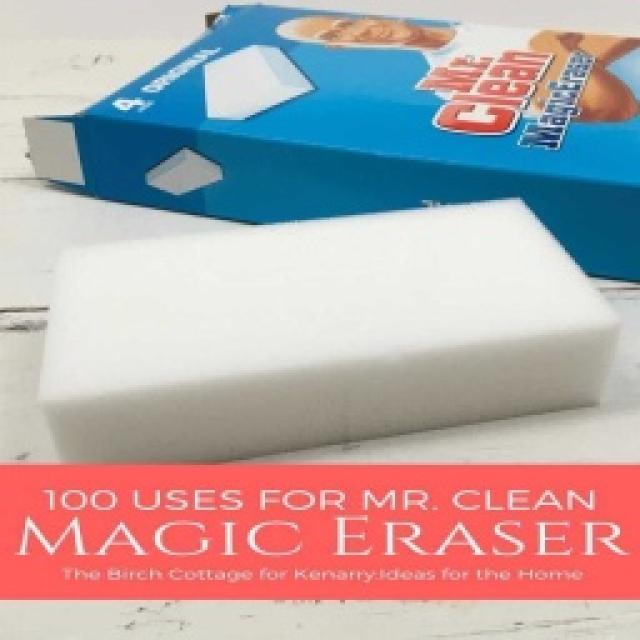Silgi: (38, 192, 624, 464)
